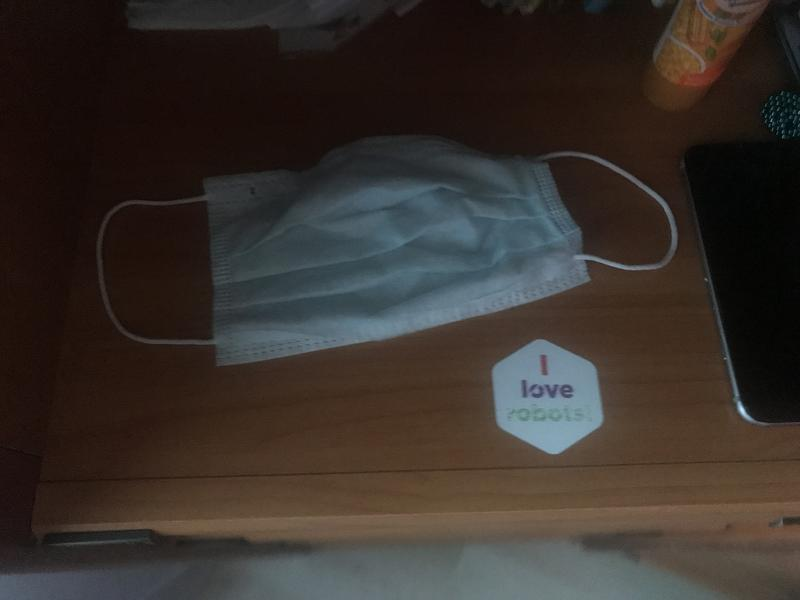medical_mask: (98, 135, 675, 350)
